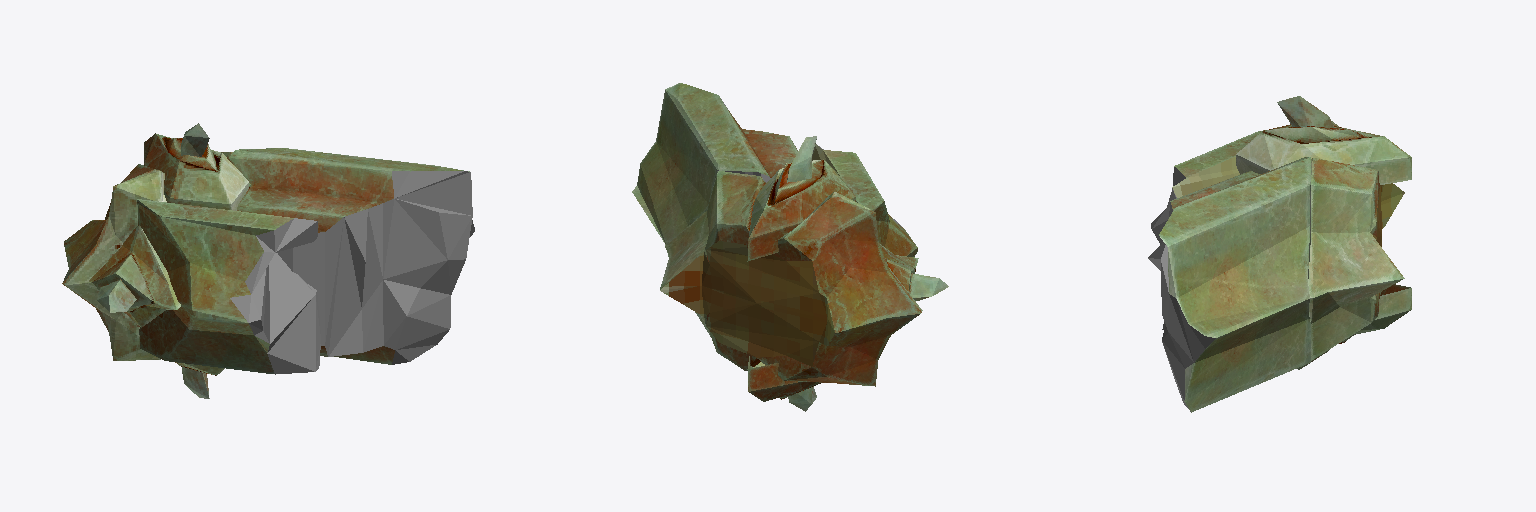
3 views of the same model, side by side, from view 1: azimuth 30°, elevation 25°; view 2: azimuth 150°, elevation 25°; view 3: azimuth 270°, elevation 25° (orthographic).
Parts seen in each view (by area): view 1: Dn_HL_Ruins_Collumn_Buttress_DMG_A; view 2: Dn_HL_Ruins_Collumn_Buttress_DMG_A; view 3: Dn_HL_Ruins_Collumn_Buttress_DMG_A.
Part boxes in pixels (bbox=[...]): Dn_HL_Ruins_Collumn_Buttress_DMG_A: bbox=[62, 123, 474, 398]; Dn_HL_Ruins_Collumn_Buttress_DMG_A: bbox=[632, 83, 948, 411]; Dn_HL_Ruins_Collumn_Buttress_DMG_A: bbox=[1148, 96, 1411, 412].
Bounding box in the file's own units: 8.46 × 6.39 × 5.58.
2 materials, 1 textured.